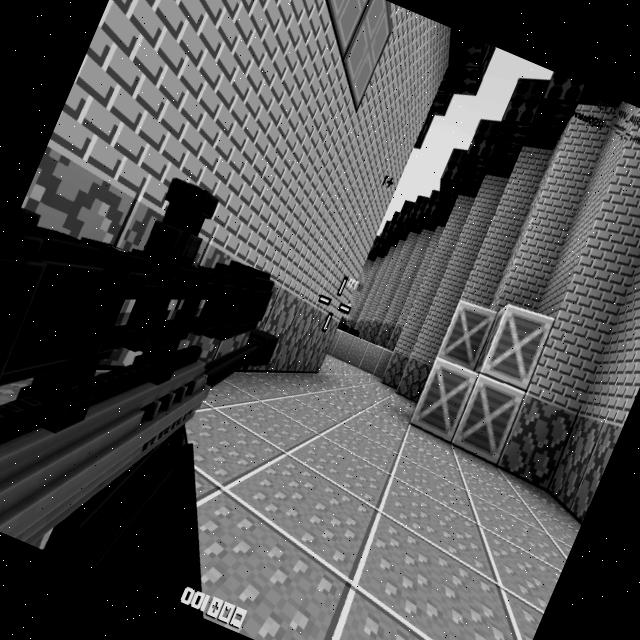Head: (335, 314, 348, 332)
Player: (334, 312, 364, 338)
